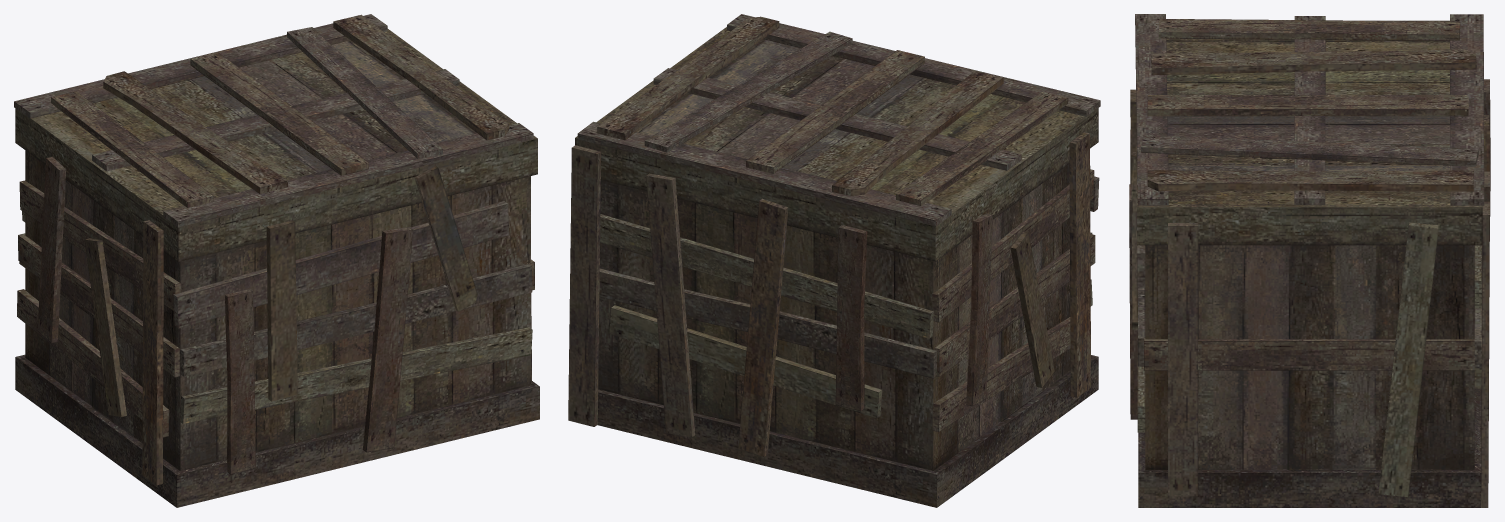
Rendered from sm26_002_woodbox01a.fbx.
3 views of the same model, side by side, from view 1: azimuth 30°, elevation 25°; view 2: azimuth 150°, elevation 25°; view 3: azimuth 270°, elevation 25° (orthographic). The views are drawn at different scales.
Visible parts, largest first — view 1: LOD_1_Group_0_Sub_1__sm26_002_WoodBox01A_D_Mat, LOD_1_Group_1_Sub_1__sm26_002_WoodBox01A_D_Mat, LOD_1_Group_2_Sub_1__sm26_002_WoodBox01A_D_Mat, LOD_1_Group_3_Sub_1__sm26_002_WoodBox01A_D_Mat; view 2: LOD_1_Group_0_Sub_1__sm26_002_WoodBox01A_D_Mat, LOD_1_Group_3_Sub_1__sm26_002_WoodBox01A_D_Mat, LOD_1_Group_1_Sub_1__sm26_002_WoodBox01A_D_Mat, LOD_1_Group_2_Sub_1__sm26_002_WoodBox01A_D_Mat; view 3: LOD_1_Group_0_Sub_1__sm26_002_WoodBox01A_D_Mat, LOD_1_Group_2_Sub_1__sm26_002_WoodBox01A_D_Mat, LOD_1_Group_3_Sub_1__sm26_002_WoodBox01A_D_Mat, LOD_1_Group_1_Sub_1__sm26_002_WoodBox01A_D_Mat.
Part boxes in pixels (x1=…): LOD_1_Group_0_Sub_1__sm26_002_WoodBox01A_D_Mat: x1=15, y1=29, x2=539, y2=507; LOD_1_Group_1_Sub_1__sm26_002_WoodBox01A_D_Mat: x1=14, y1=14, x2=533, y2=423; LOD_1_Group_2_Sub_1__sm26_002_WoodBox01A_D_Mat: x1=17, y1=14, x2=534, y2=437; LOD_1_Group_3_Sub_1__sm26_002_WoodBox01A_D_Mat: x1=37, y1=156, x2=531, y2=485; LOD_1_Group_0_Sub_1__sm26_002_WoodBox01A_D_Mat: x1=575, y1=27, x2=1098, y2=507; LOD_1_Group_3_Sub_1__sm26_002_WoodBox01A_D_Mat: x1=568, y1=132, x2=1090, y2=456; LOD_1_Group_1_Sub_1__sm26_002_WoodBox01A_D_Mat: x1=577, y1=14, x2=1100, y2=418; LOD_1_Group_2_Sub_1__sm26_002_WoodBox01A_D_Mat: x1=597, y1=16, x2=1095, y2=431; LOD_1_Group_0_Sub_1__sm26_002_WoodBox01A_D_Mat: x1=1137, y1=20, x2=1482, y2=507; LOD_1_Group_2_Sub_1__sm26_002_WoodBox01A_D_Mat: x1=1141, y1=19, x2=1478, y2=370; LOD_1_Group_3_Sub_1__sm26_002_WoodBox01A_D_Mat: x1=1129, y1=79, x2=1490, y2=507; LOD_1_Group_1_Sub_1__sm26_002_WoodBox01A_D_Mat: x1=1135, y1=14, x2=1484, y2=432.
Bounding box in the file's own units: 1.61 × 1.21 × 1.27.
